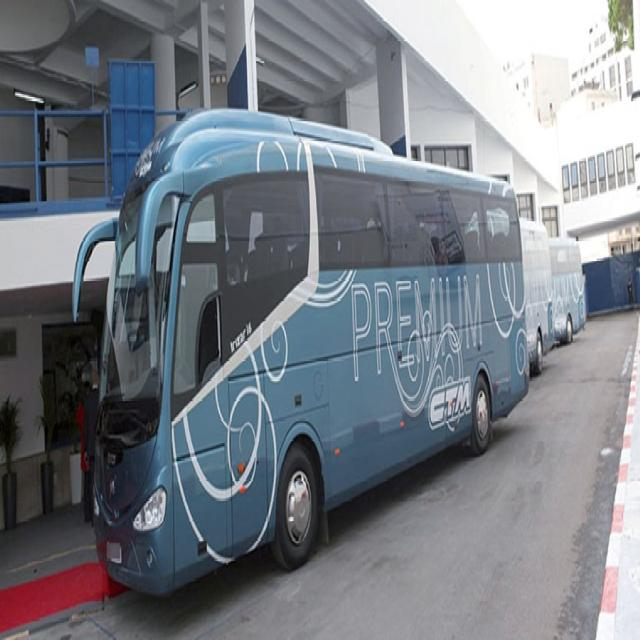Bus: (72, 109, 530, 595)
